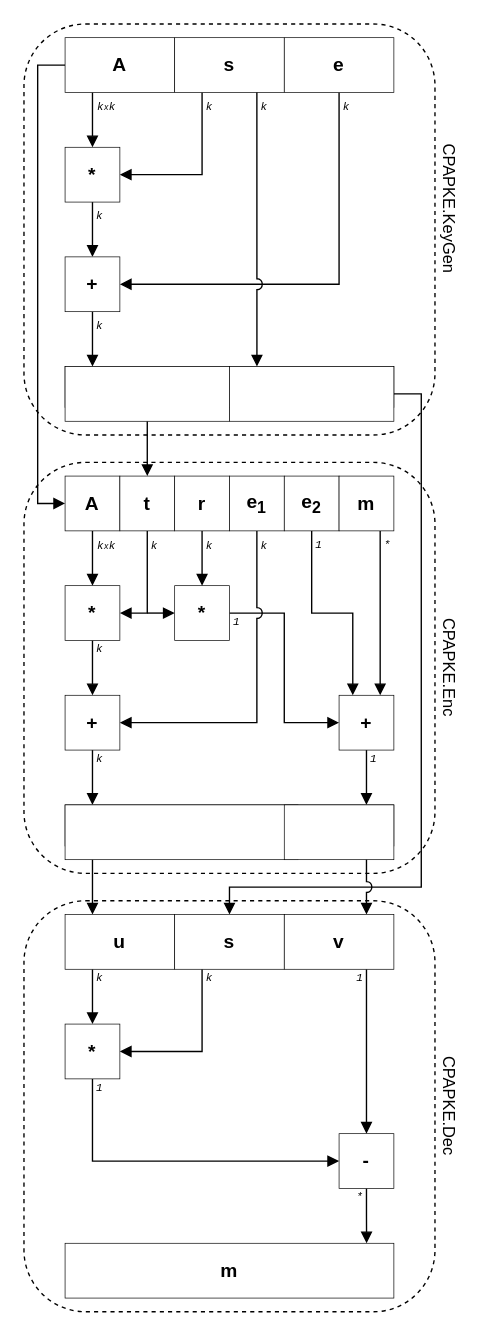
The diagram is 493 pixels wide and 1336 high, and some of its shapes have lost their labels. The shapes that lost their labels are listed below. From the top down, each one's box as (x1, y1, x2, y2) in pixels, then its label:
(64, 366, 229, 421): pk
(229, 366, 394, 421): sk
(64, 804, 298, 859): C 1
(283, 804, 394, 859): C 2
